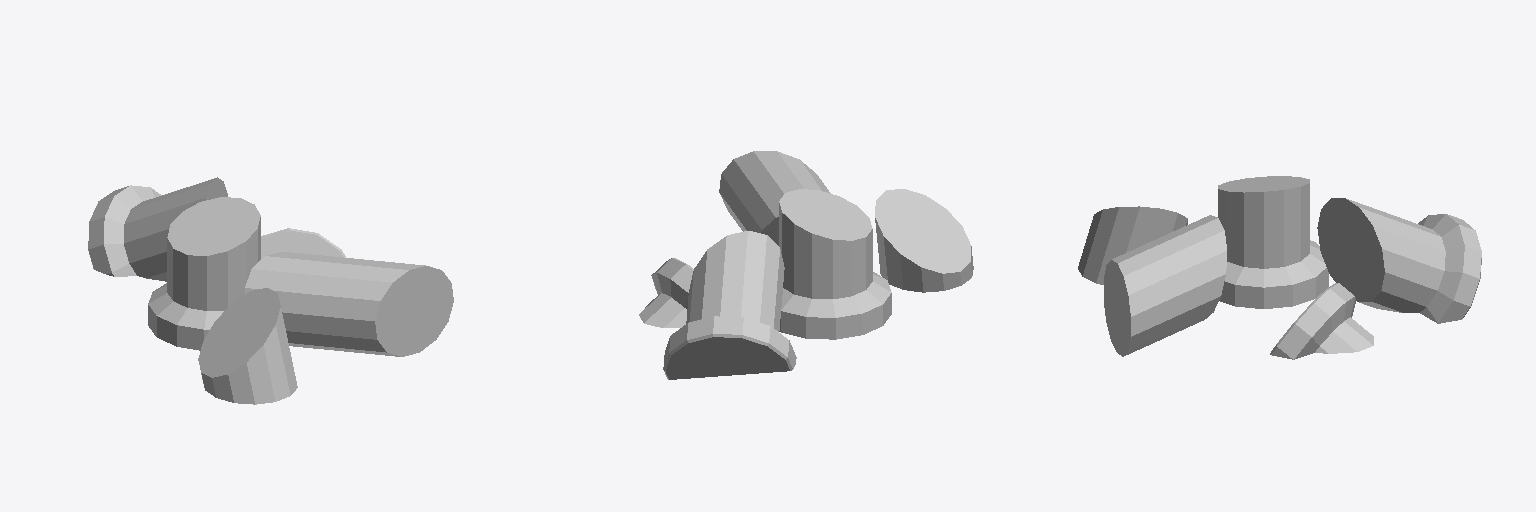
The model's file is RuinedPillar.obj.
3 views of the same model, side by side, from view 1: azimuth 30°, elevation 25°; view 2: azimuth 150°, elevation 25°; view 3: azimuth 270°, elevation 25° (orthographic).
Parts seen in each view (by area): view 1: shard3; view 2: shard3; view 3: shard3.
Boxes of the visible parts, <box> form: shard3: <box>88,177,453,404</box>; shard3: <box>639,151,973,379</box>; shard3: <box>1078,176,1481,359</box>.
Size of the model in its own units: 2.77 by 1.28 by 3.93.